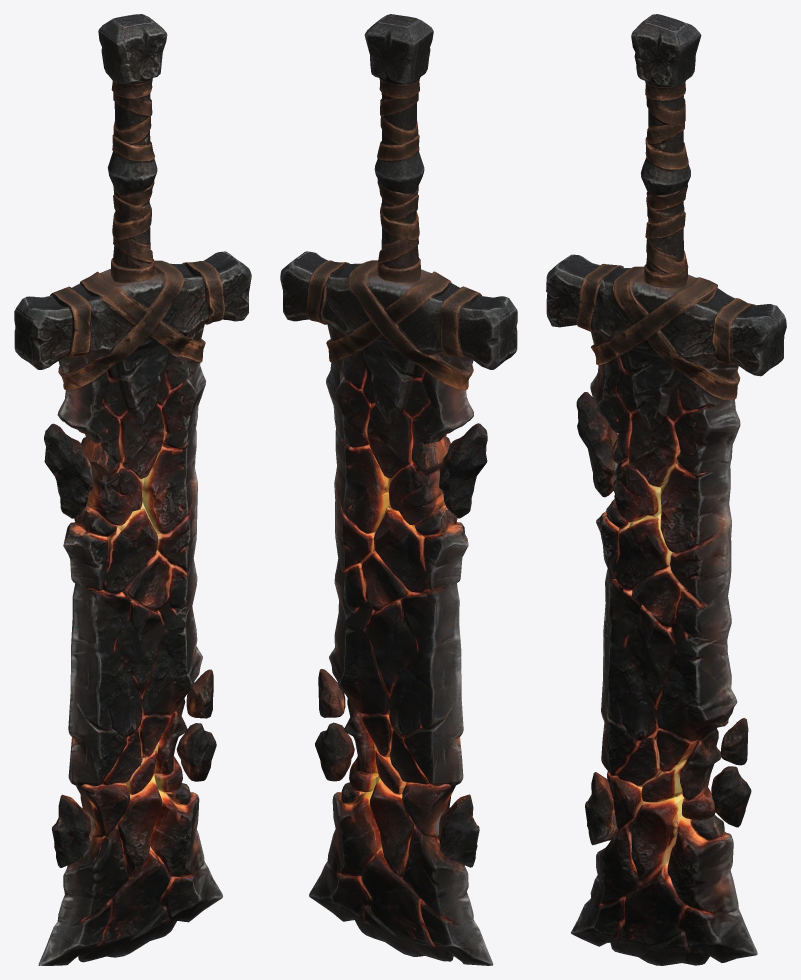
3 renders of one model, left to right at view 1: azimuth 30°, elevation 25°; view 2: azimuth 150°, elevation 25°; view 3: azimuth 330°, elevation 25°, orthographic.
Parts seen in each view (by area): view 1: mesh_node; view 2: mesh_node; view 3: mesh_node.
Boxes of the visible parts, <box> form: mesh_node: <box>14,14,251,965</box>; mesh_node: <box>280,14,517,965</box>; mesh_node: <box>546,14,786,965</box>.
Size of the model in its own units: 0.4707 by 1.9 by 0.1446.
Materials: 1 (1 with a texture image).
